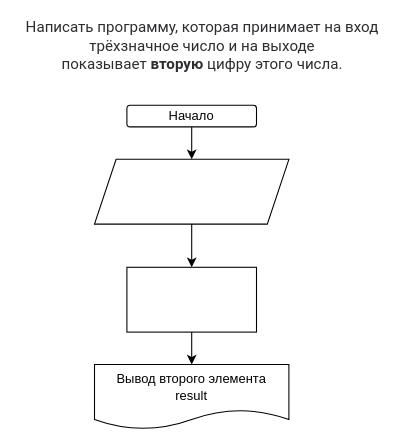
Image size: 404x448. Some labels were removed from this diagram. The box of each missing label's shape, as (x1, y1, x2, y2) in pixels:
result = array[1]: (126, 266, 256, 332)
ввод массива из трех цифр через пробел: (93, 158, 289, 224)
